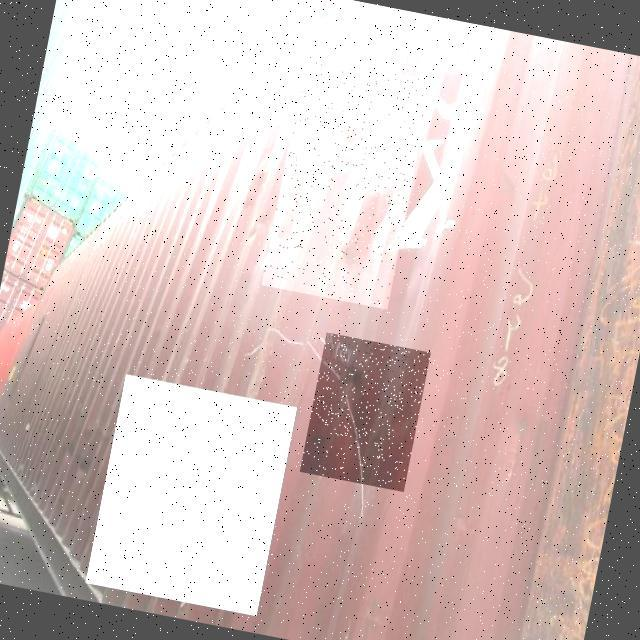Dent: (262, 56, 432, 310)
Minor-Dent: (300, 333, 431, 493)
